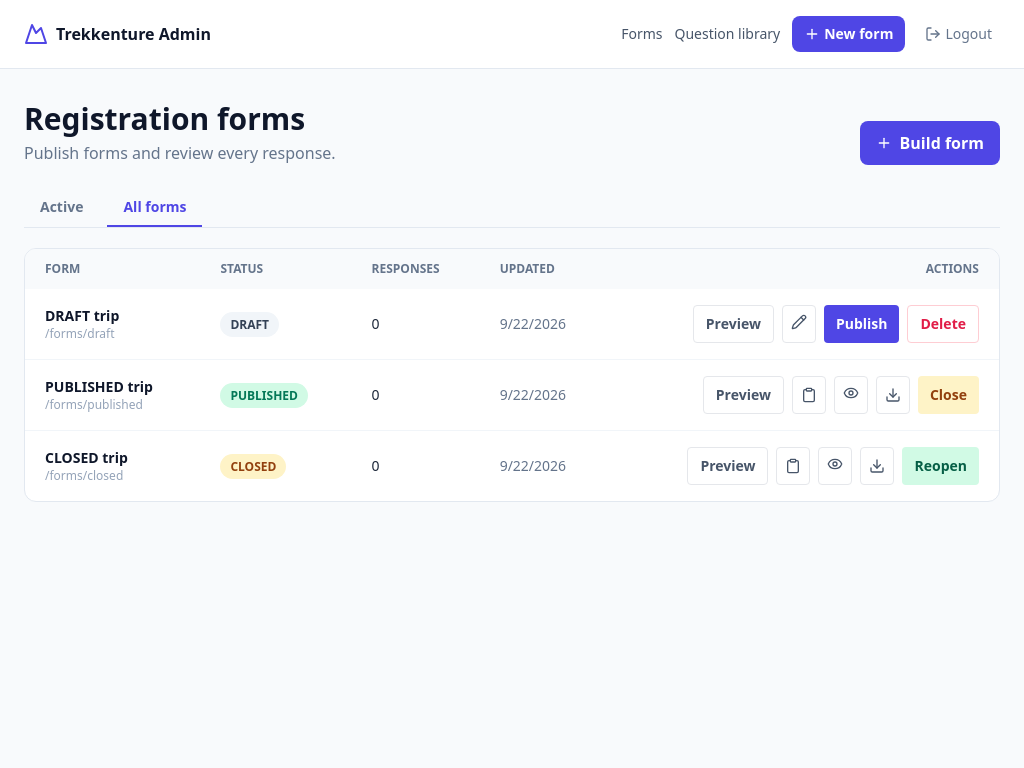
it: application integration › confirms draft deletion inline, supports cancel/retry and keeps published/closed forms protected
Click the button with aria-label "Delete draft: DRAFT trip" at coordinates (943, 324), box [908,305,979,343]
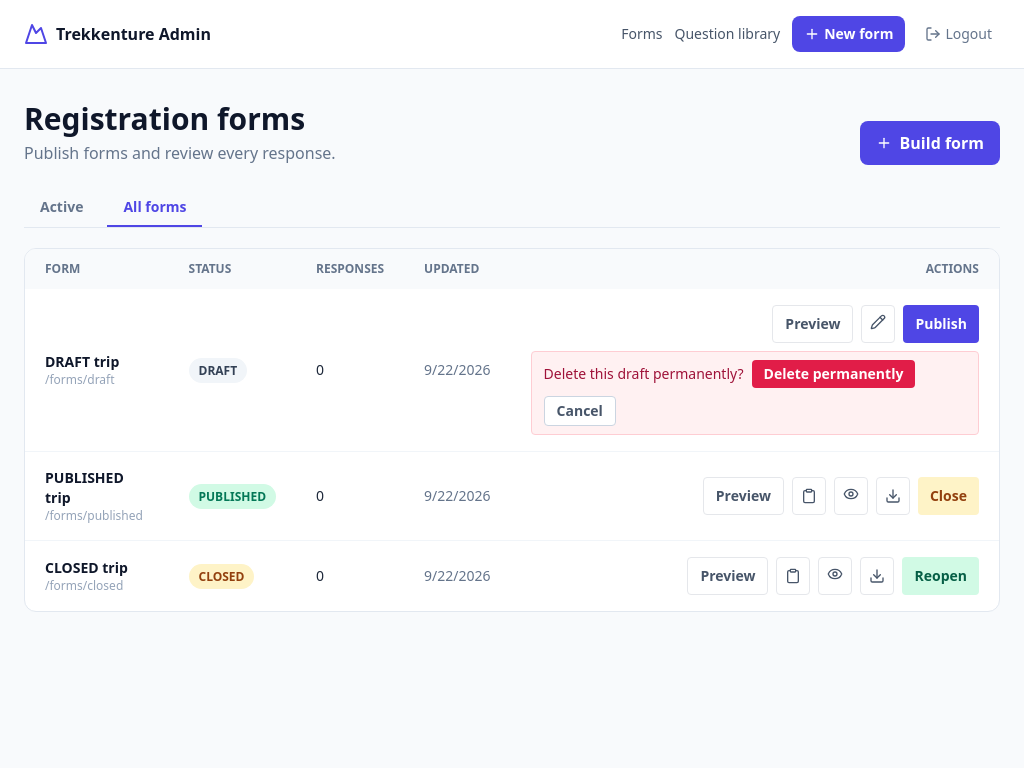
Check: the text "Delete this draft permanently?" is shown, box [544,364,744,384]
Click the button "Cancel" at coordinates (580, 411), box [544,396,616,426]
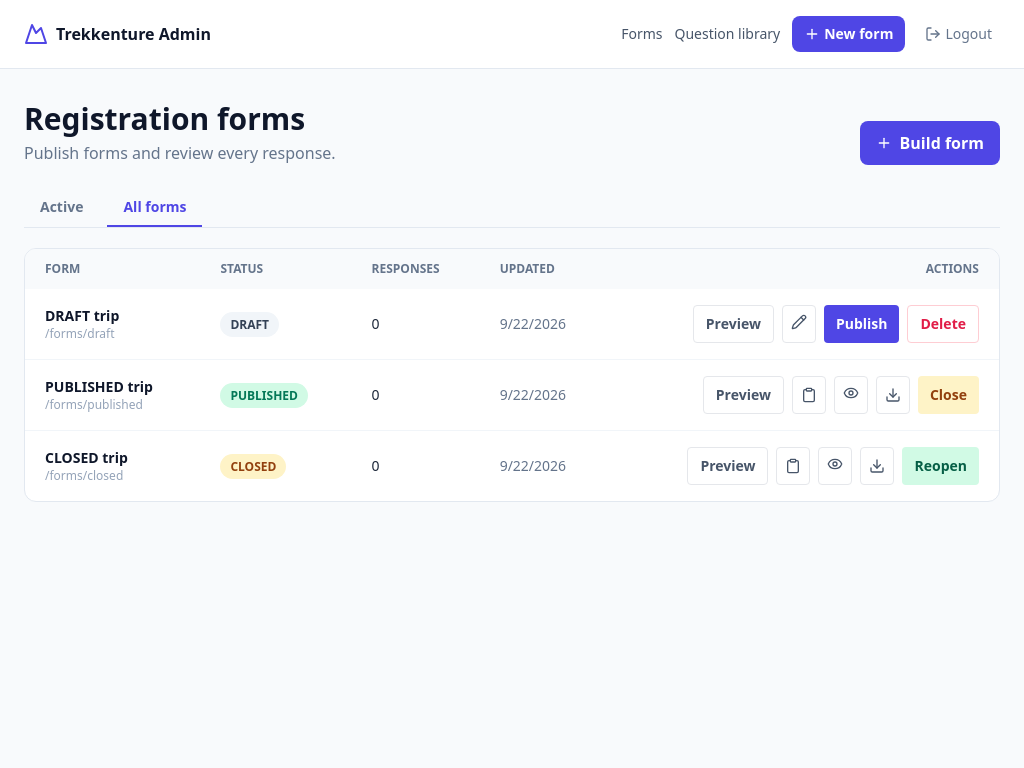
Click the button with aria-label "Delete draft: DRAFT trip" at coordinates (943, 324), box [908,305,979,343]
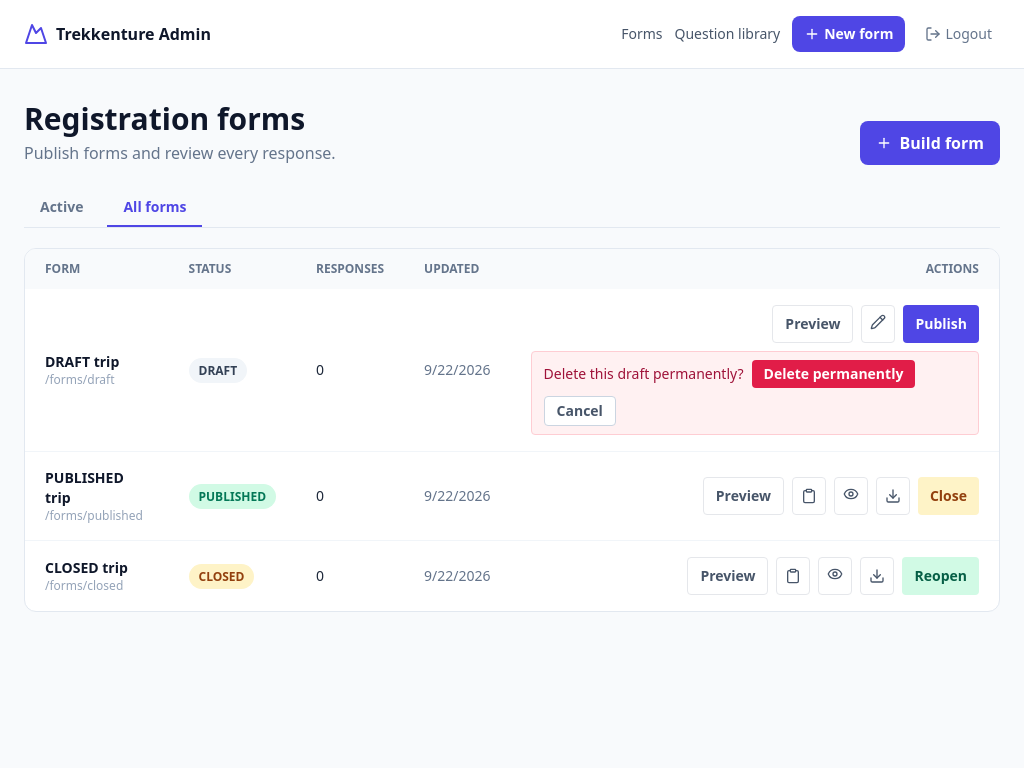
Click the button "Delete permanently" at coordinates (833, 374), box [752,360,915,388]
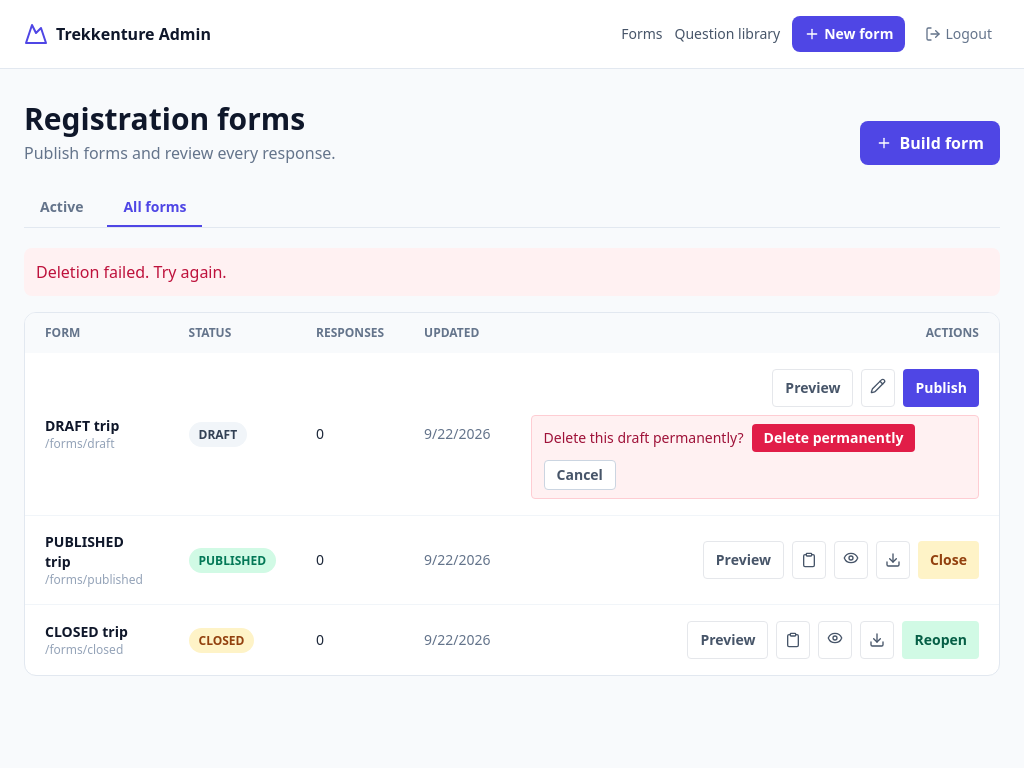
Check: the text "DRAFT trip" is shown, box [45,416,119,435]
Check: the message reads "Deletion failed. Try again.", box [36,261,227,283]
Click the button "Delete permanently" at coordinates (833, 438), box [752,424,915,452]
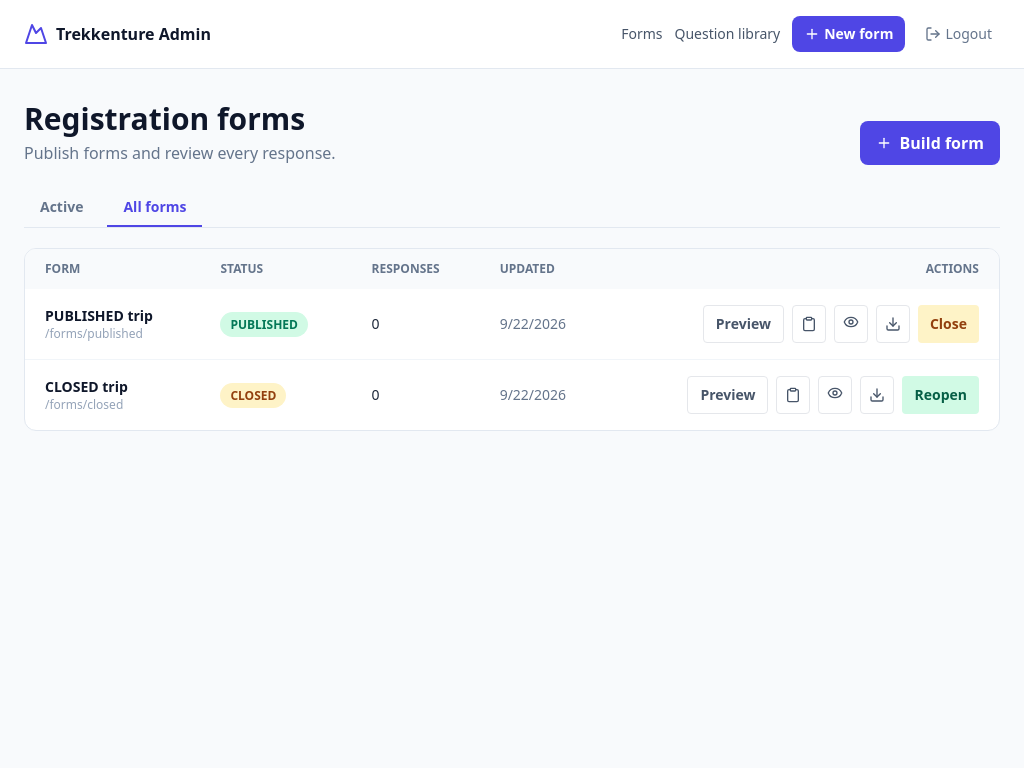
Check: the text "PUBLISHED trip" is shown, box [45,306,153,325]
Check: the text "DRAFT trip" is gone
